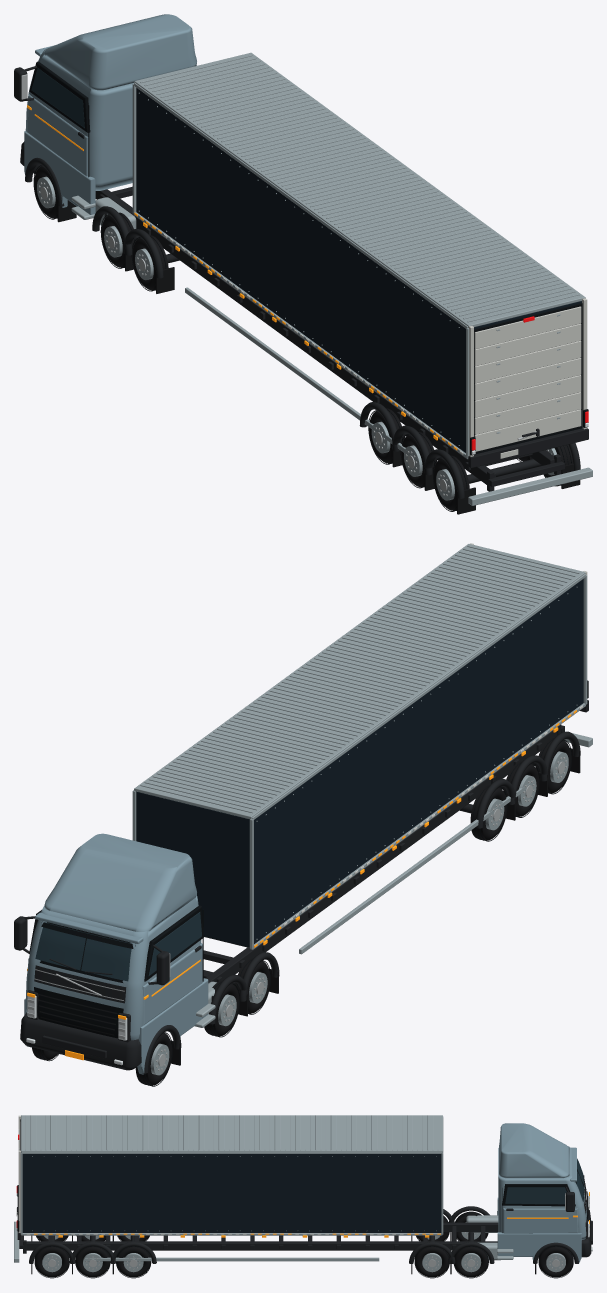
The model's file is delivery-tractor-trailer.glb.
The picture shows the model from 3 angles, top to bottom: view 1: azimuth 30°, elevation 25°; view 2: azimuth 150°, elevation 25°; view 3: azimuth 270°, elevation 25°; orthographic projection. The views are drawn at different scales.
Parts seen in each view (by area): view 1: Extruded aluminum trim, Cargo • midnight blue coated steel, Cab • metallic blue silver, Rear • weathered white enamel, Chassis • powder coated black, Tires • vulcanized rubber (×3), Door and glass seals, Smoked blue safety glass, Amber marker lenses; view 2: Cargo • midnight blue coated steel, Extruded aluminum trim, Cab • metallic blue silver, Chassis • powder coated black, Door and glass seals, Smoked blue safety glass, Tires • vulcanized rubber (×2), Amber marker lenses; view 3: Cargo • midnight blue coated steel, Extruded aluminum trim (×7), Cab • metallic blue silver, Chassis • powder coated black, Tires • vulcanized rubber (×7), Smoked blue safety glass, Door and glass seals, Amber marker lenses, Rear • weathered white enamel.
Part boxes in pixels (left/top/right/bottom): Extruded aluminum trim: left=71, top=52, right=592, bottom=505; Cargo • midnight blue coated steel: left=136, top=88, right=581, bottom=453; Cab • metallic blue silver: left=24, top=14, right=196, bottom=214; Rear • weathered white enamel: left=469, top=298, right=587, bottom=458; Chassis • powder coated black: left=14, top=65, right=588, bottom=498; Tires • vulcanized rubber (×3): left=57, top=199, right=580, bottom=514; Door and glass seals: left=29, top=61, right=588, bottom=455; Smoked blue safety glass: left=31, top=68, right=84, bottom=128; Amber marker lenses: left=27, top=105, right=457, bottom=450; Cargo • midnight blue coated steel: left=136, top=579, right=583, bottom=947; Extruded aluminum trim: left=132, top=544, right=592, bottom=1027; Cab • metallic blue silver: left=24, top=833, right=208, bottom=1074; Chassis • powder coated black: left=14, top=700, right=588, bottom=1073; Door and glass seals: left=29, top=680, right=588, bottom=1038; Smoked blue safety glass: left=35, top=912, right=201, bottom=981; Tires • vulcanized rubber (×2): left=170, top=748, right=580, bottom=1065; Amber marker lenses: left=27, top=710, right=576, bottom=1060; Cargo • midnight blue coated steel: left=22, top=1154, right=441, bottom=1232; Extruded aluminum trim (×7): left=14, top=1115, right=565, bottom=1272; Cab • metallic blue silver: left=497, top=1123, right=586, bottom=1262; Chassis • powder coated black: left=17, top=1175, right=592, bottom=1263; Tires • vulcanized rubber (×7): left=35, top=1211, right=573, bottom=1277; Smoked blue safety glass: left=505, top=1158, right=583, bottom=1204; Door and glass seals: left=17, top=1119, right=588, bottom=1232; Amber marker lenses: left=34, top=1192, right=589, bottom=1237; Rear • weathered white enamel: left=16, top=1115, right=20, bottom=1232.
Size of the model in its own units: 3.24 by 4.19 by 17.06.
